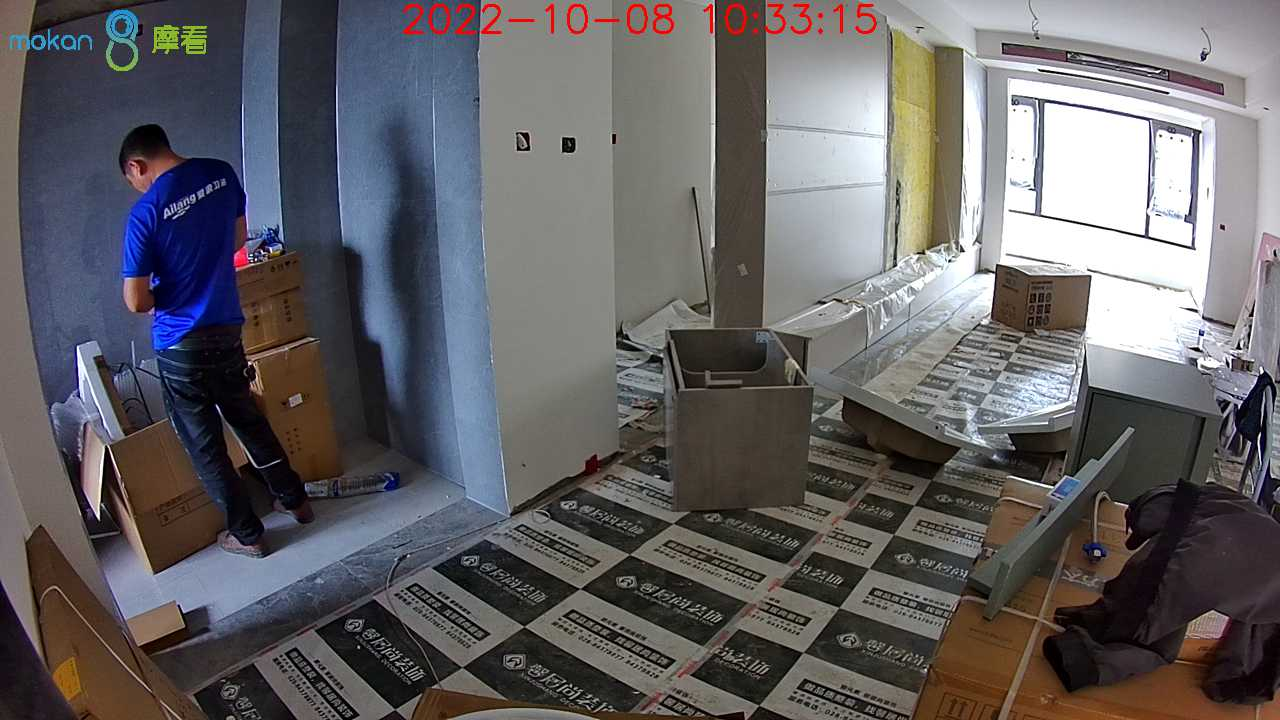people: (120, 124, 314, 559)
window: (1007, 90, 1203, 269)
